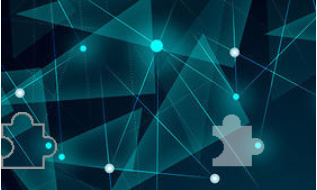target: (205, 108, 271, 176)
